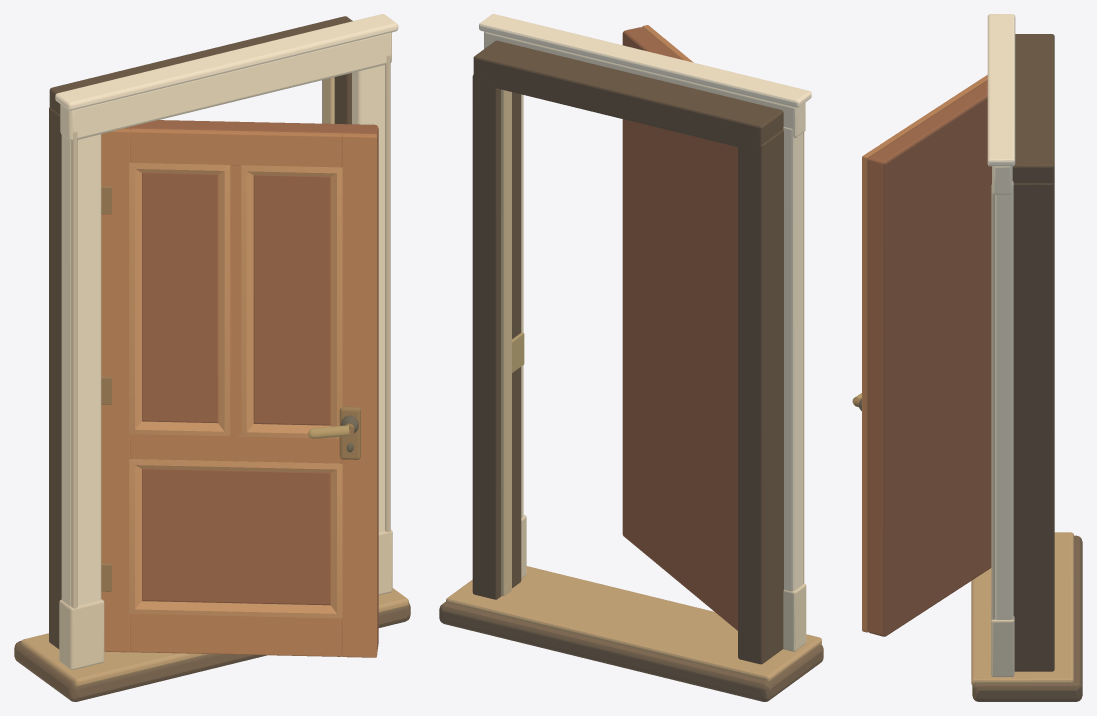
3 renders of one model, left to right at view 1: azimuth 30°, elevation 25°; view 2: azimuth 150°, elevation 25°; view 3: azimuth 270°, elevation 25°, orthographic. The views are drawn at different scales.
Parts seen in each view (by area): view 1: Asset_boss; view 2: Asset_boss; view 3: Asset_boss.
Part boxes in pixels (x1,y1,x2,y2): Asset_boss: (14, 14, 410, 701); Asset_boss: (439, 14, 823, 701); Asset_boss: (852, 14, 1082, 701).
Bounding box in the file's own units: 3.29 × 5.48 × 2.11.
1 material, 1 textured.
